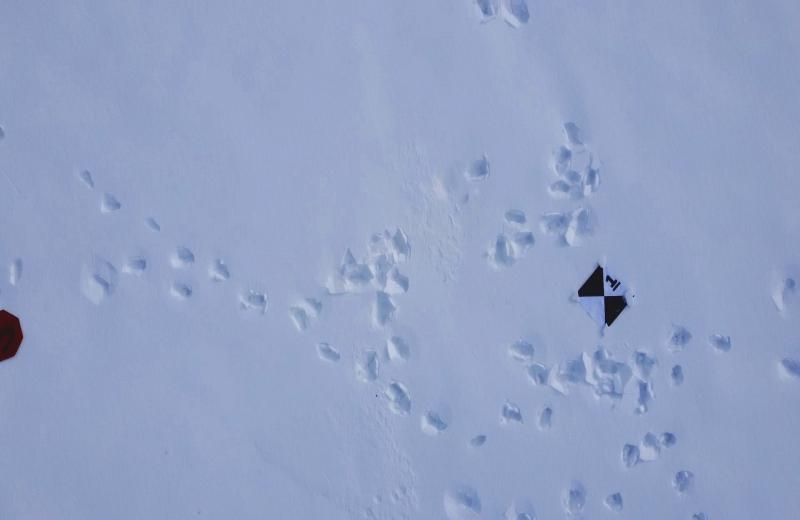Octagon: (0, 310, 26, 361)
